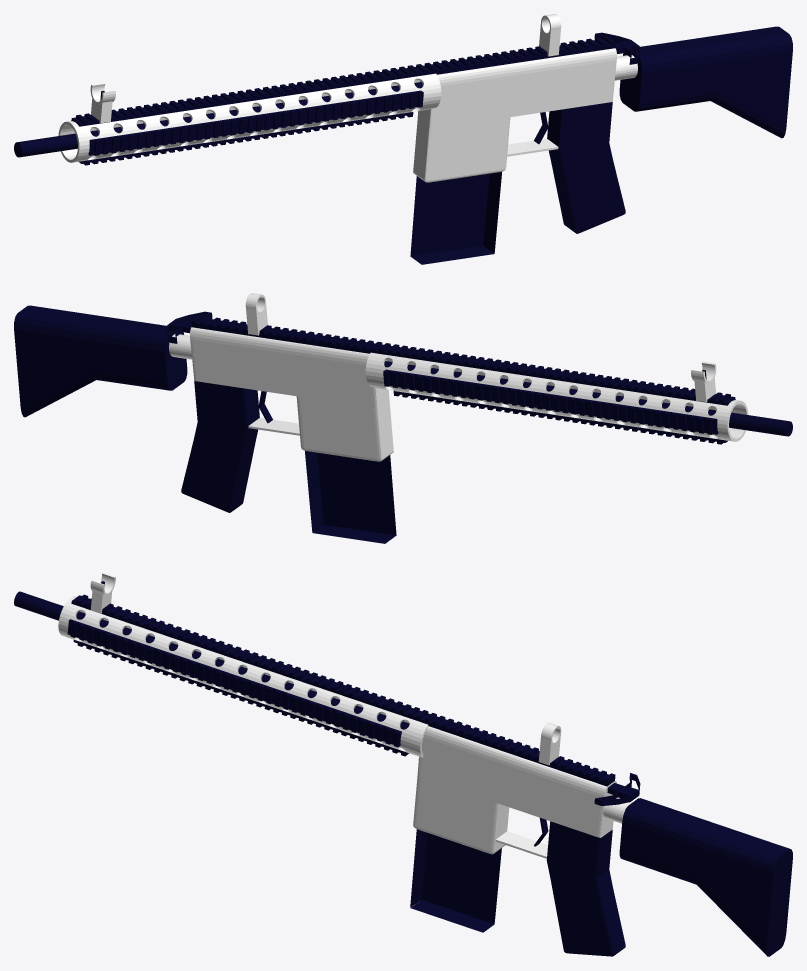
File: stoner0003.obj
The picture shows the model from 3 angles, top to bottom: view 1: azimuth 30°, elevation 25°; view 2: azimuth 150°, elevation 25°; view 3: azimuth 330°, elevation 25°; orthographic projection.
Visible parts, largest first — view 1: shoulderStock, upperReceiver, handGuard, rearPistolGrip, mag, picatinyRail, picatinyRailLeft, magWell, barrel, picatinyRailBottom, lowerTriggerGuard, rearSight (+2 smaller); view 2: shoulderStock, upperReceiver, handGuard, rearPistolGrip, mag, picatinyRail, picatinyRailRight, magWell, barrel, picatinyRailBottom, lowerTriggerGuard, rearSight (+2 smaller); view 3: shoulderStock, upperReceiver, rearPistolGrip, picatinyRail, handGuard, mag, picatinyRailLeft, magWell, barrel, picatinyRailBottom, lowerTriggerGuard.
Part boxes in pixels (box(x1,y1,x2,y2)): shoulderStock: box(619, 26, 792, 138); upperReceiver: box(417, 48, 616, 128); handGuard: box(58, 73, 441, 162); rearPistolGrip: box(547, 102, 625, 233); mag: box(410, 171, 501, 264); picatinyRail: box(71, 36, 615, 126); picatinyRailLeft: box(88, 90, 423, 155); magWell: box(413, 117, 510, 182); barrel: box(14, 82, 422, 157); picatinyRailBottom: box(78, 112, 413, 165); lowerTriggerGuard: box(507, 138, 558, 156); rearSight: box(539, 24, 560, 56); shoulderStock: box(14, 305, 187, 417); upperReceiver: box(190, 327, 389, 407); handGuard: box(365, 352, 748, 441); rearPistolGrip: box(181, 381, 259, 512); mag: box(305, 451, 396, 543); picatinyRail: box(191, 315, 735, 405); picatinyRailRight: box(383, 369, 718, 434); magWell: box(296, 396, 393, 461); barrel: box(384, 361, 792, 436); picatinyRailBottom: box(393, 391, 727, 444); lowerTriggerGuard: box(248, 417, 299, 435); rearSight: box(246, 303, 267, 335); shoulderStock: box(619, 798, 792, 956); upperReceiver: box(417, 726, 616, 837); rearPistolGrip: box(546, 821, 625, 956); picatinyRail: box(71, 594, 615, 786); handGuard: box(58, 596, 428, 757); mag: box(410, 829, 501, 932); picatinyRailLeft: box(67, 619, 401, 747); magWell: box(413, 776, 509, 854); barrel: box(14, 591, 409, 729); picatinyRailBottom: box(73, 640, 408, 756); lowerTriggerGuard: box(495, 831, 547, 858).
Bounding box in the file's own units: 8.98 × 2.87 × 0.7121.
